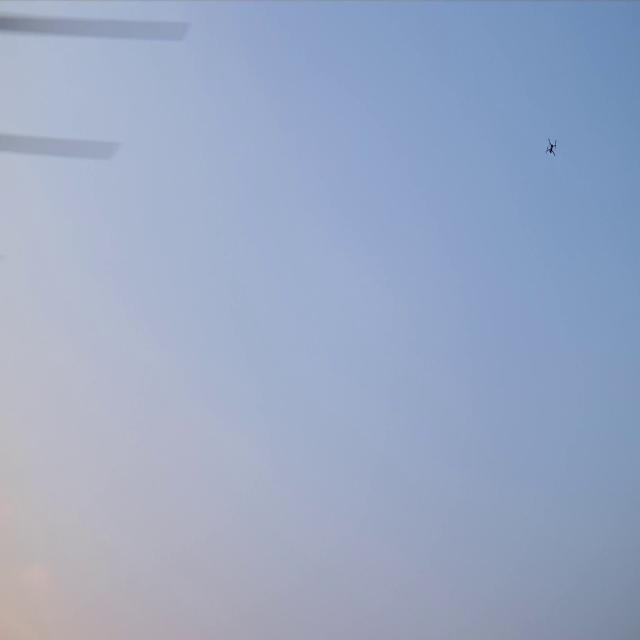UAV: (544, 135, 557, 157)
